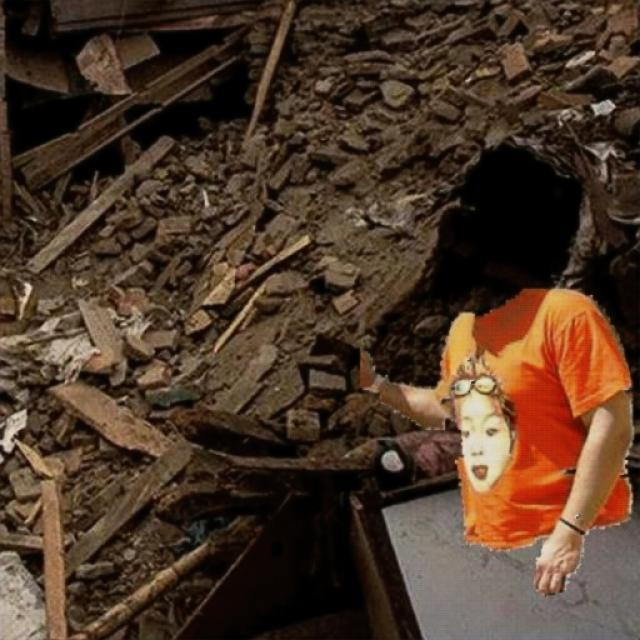Person in Rubble: (360, 289, 632, 595)
